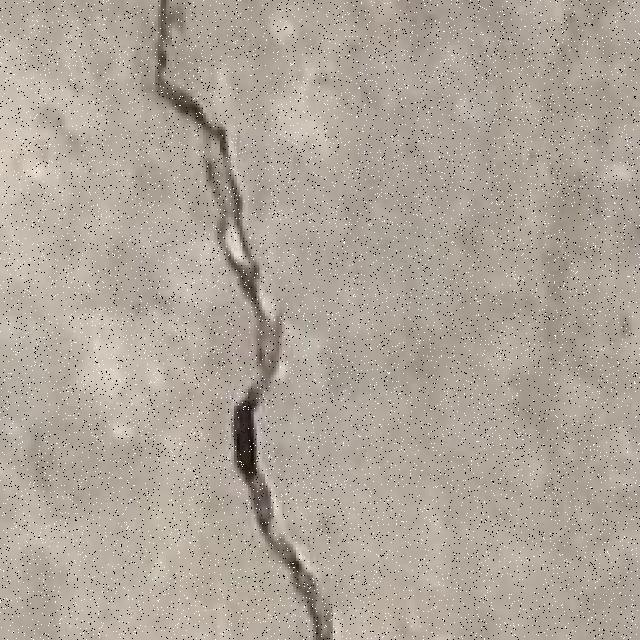crack: (152, 2, 334, 637), (149, 4, 263, 301), (16, 369, 179, 500), (151, 5, 216, 139)
